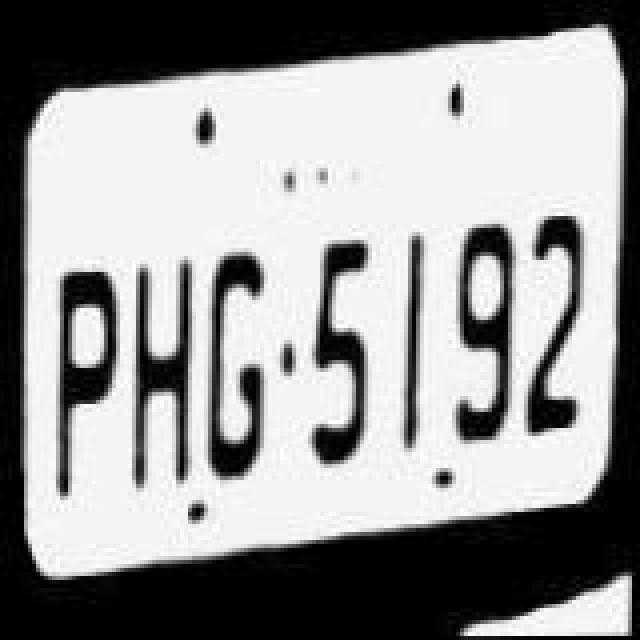1: (384, 206, 444, 466)
2: (518, 202, 590, 470)
5: (302, 228, 382, 480)
9: (444, 194, 520, 462)
G: (204, 238, 280, 490)
H: (128, 248, 204, 500)
P: (32, 246, 120, 506)
